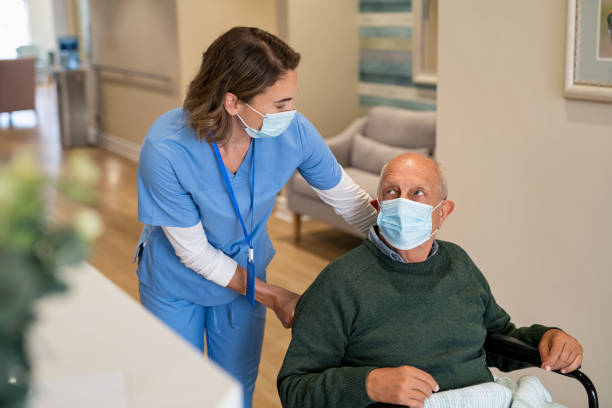with mask: (236, 54, 307, 143), (375, 164, 446, 253)
